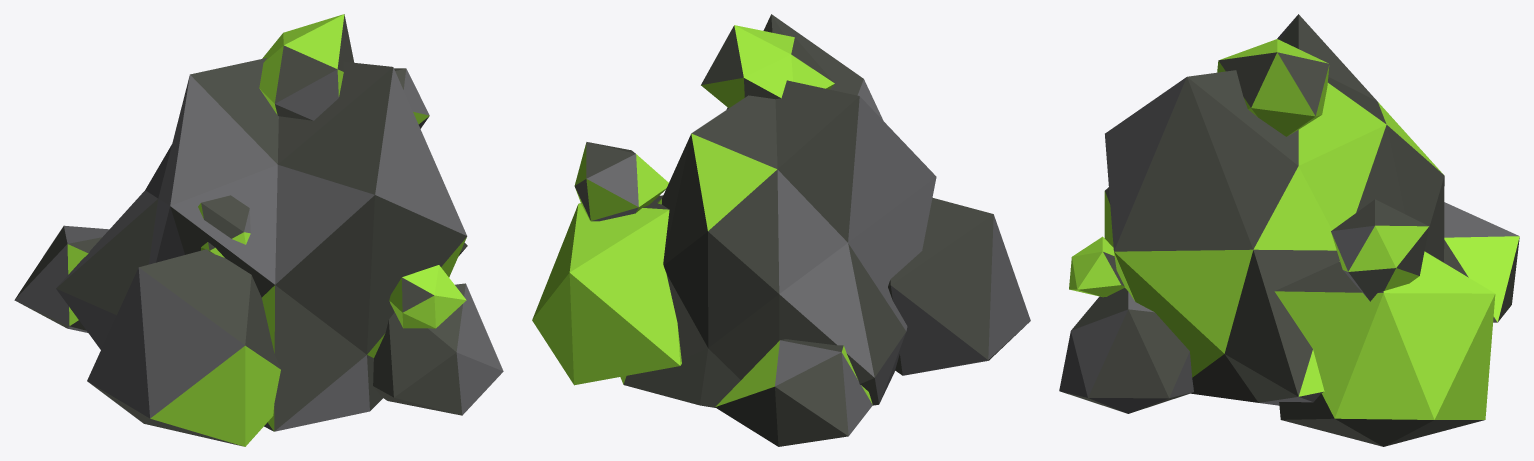
Rendered from uranium_ore_a.obj.
The picture shows the model from 3 angles, left to right: view 1: azimuth 30°, elevation 25°; view 2: azimuth 150°, elevation 25°; view 3: azimuth 270°, elevation 25°; orthographic projection. The views are drawn at different scales.
Size of the model in its own units: 1.12 by 0.8645 by 1.08.
